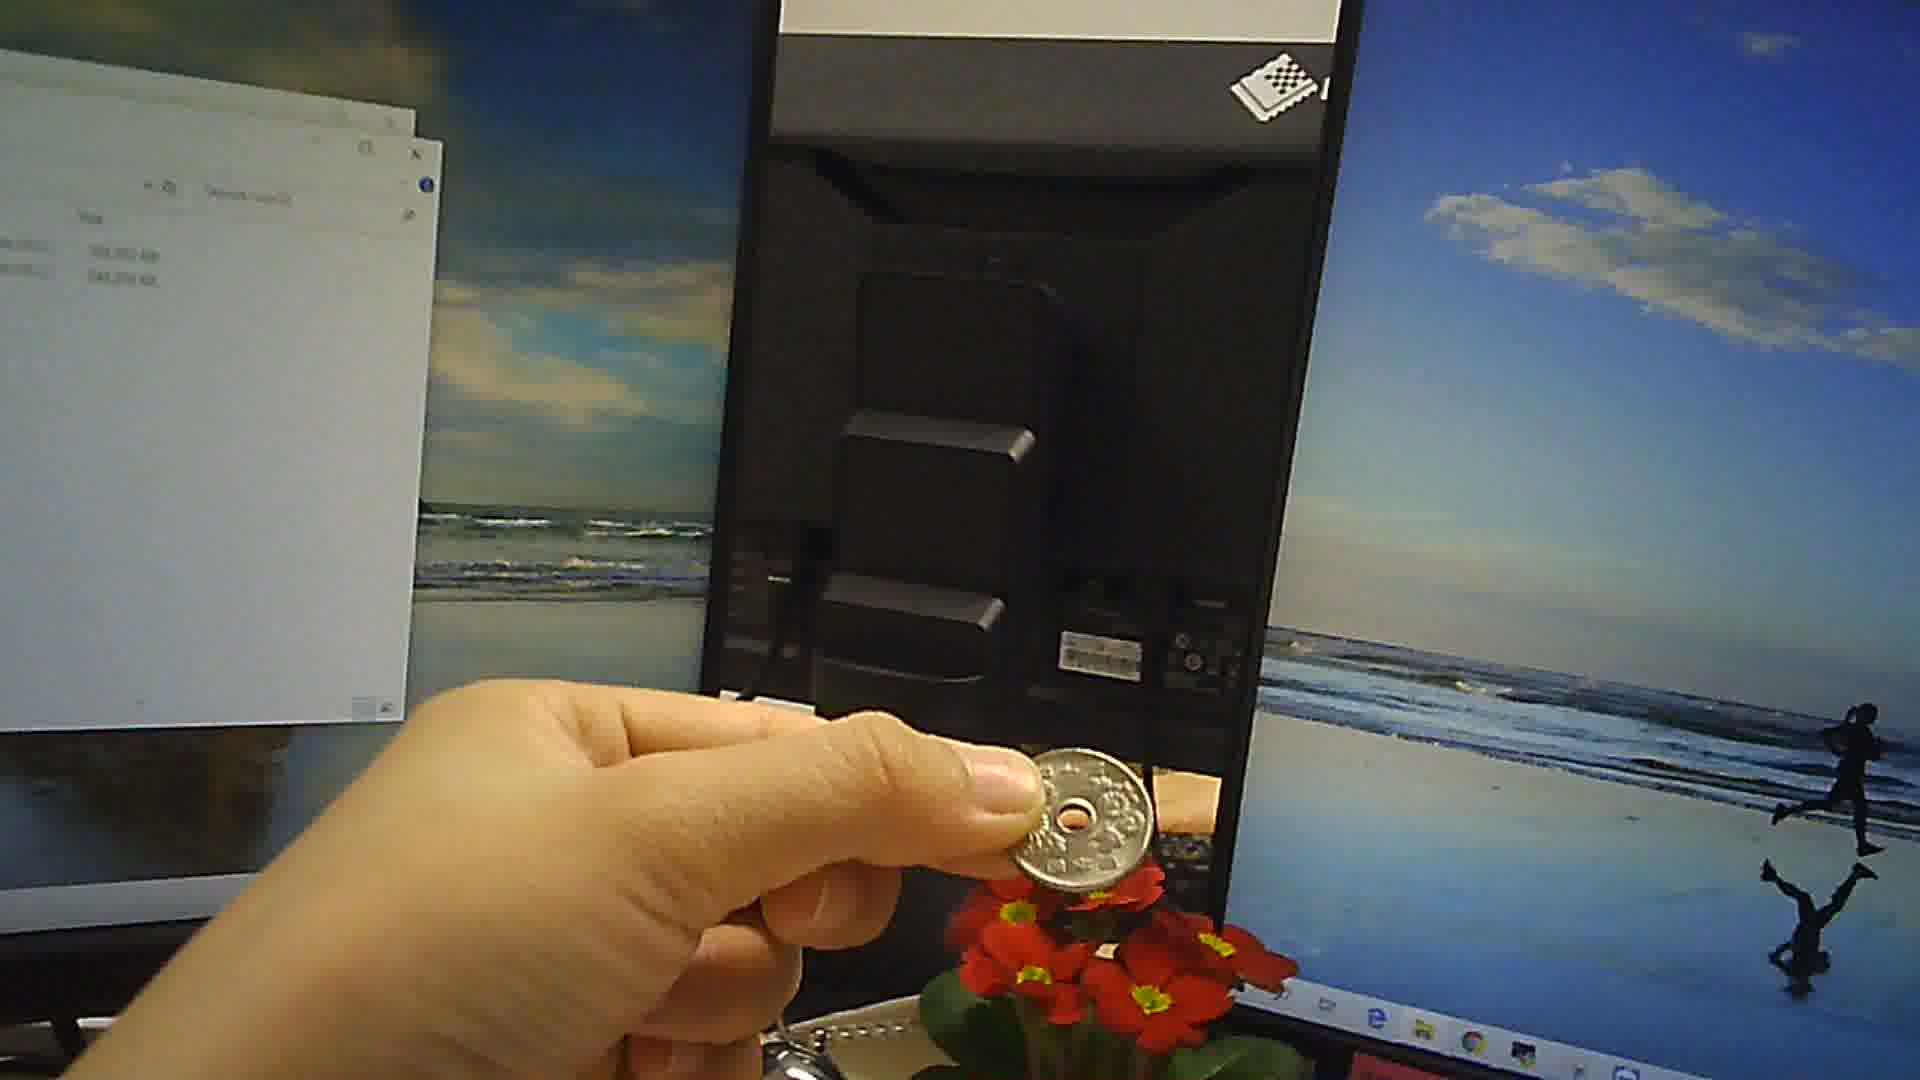50 Yen: (1000, 732, 1159, 902)
